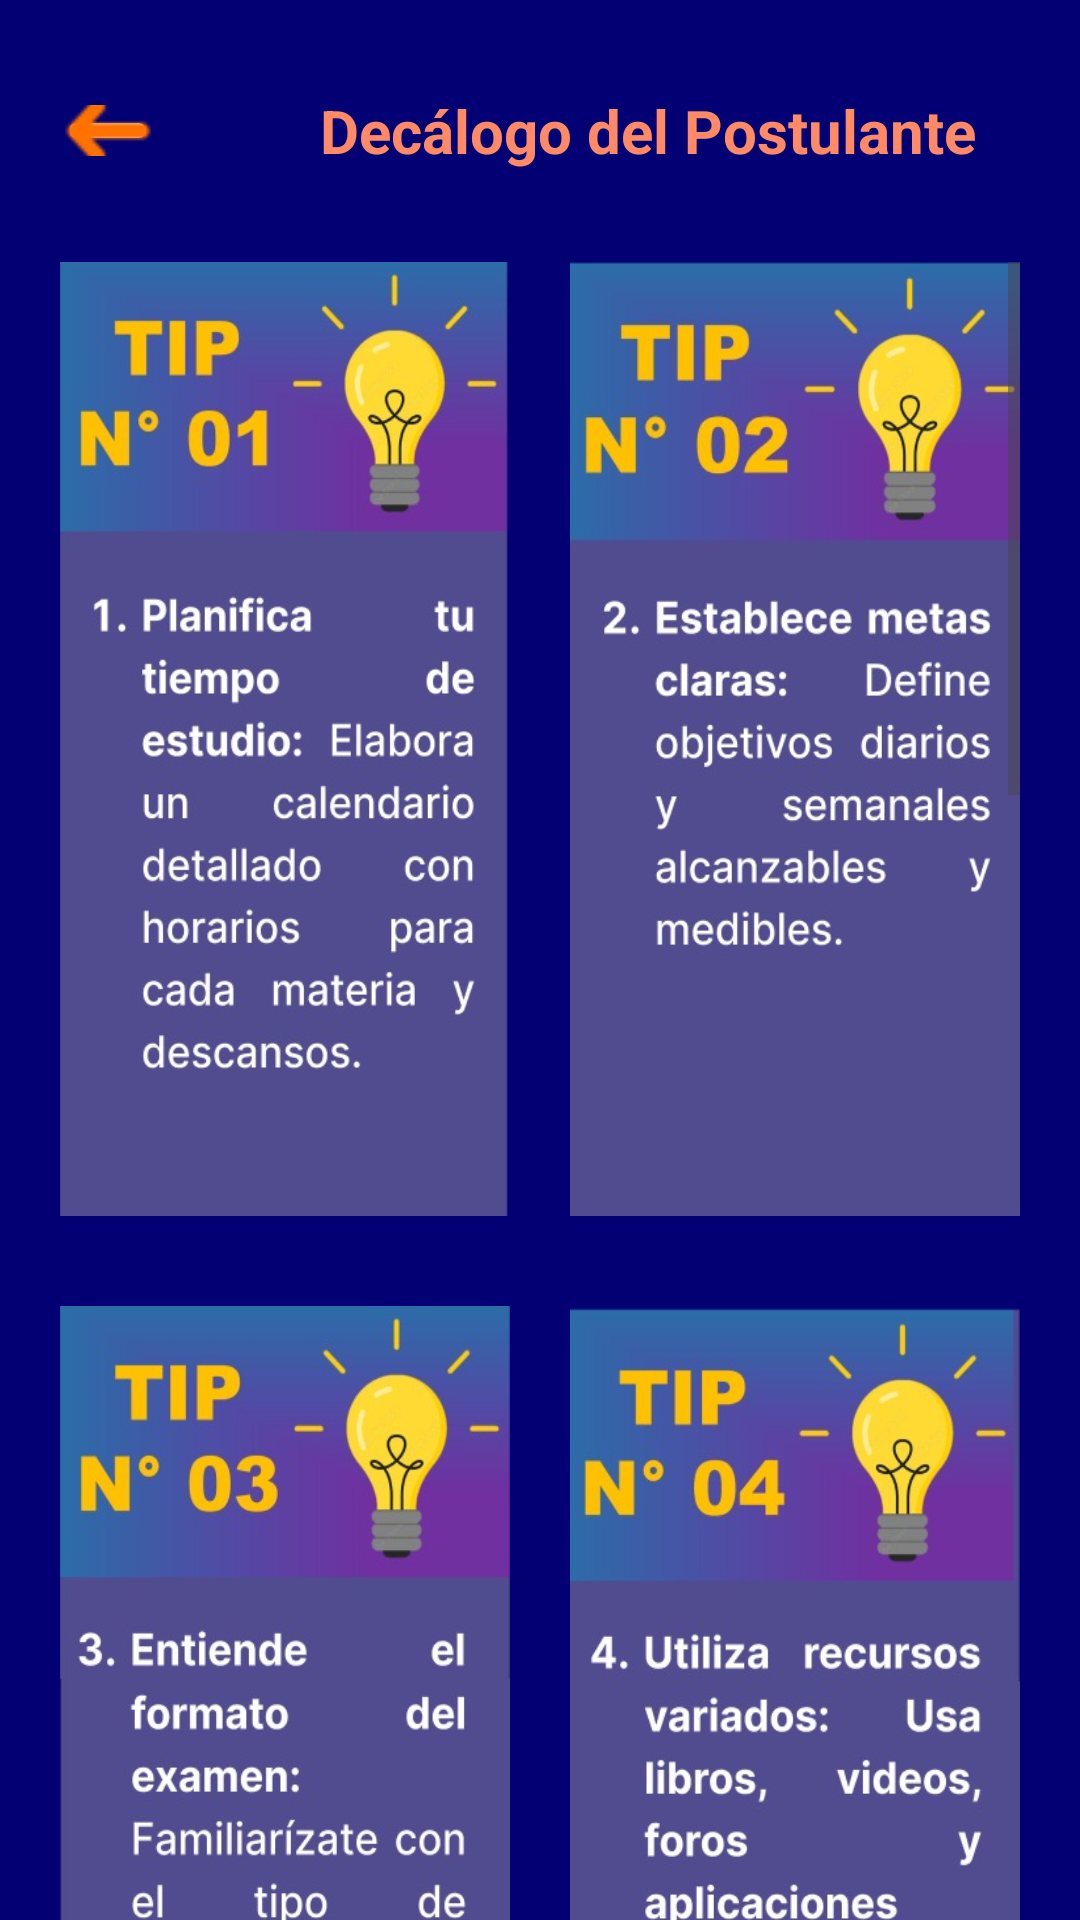

Locate icon controls on the screen. Image size 1080*1920, boxes as [x1,y1,x2,y2].
flechita: [65,105,151,156]
